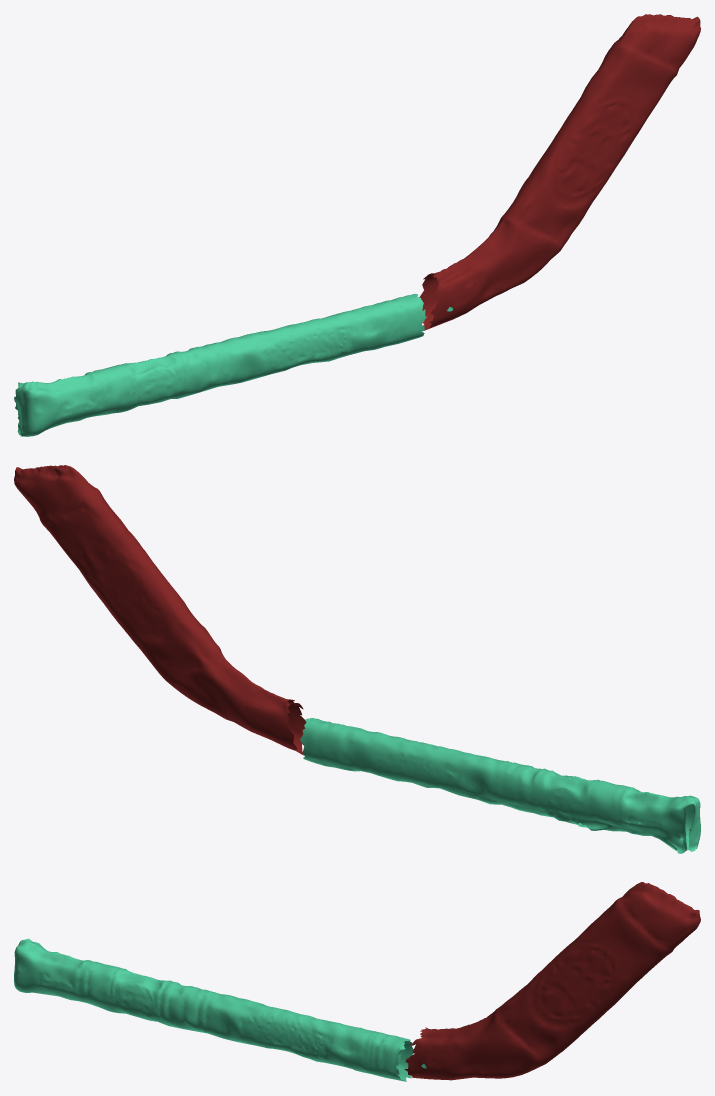
The model's file is object_deformed_6.obj.
3 renders of one model, top to bottom at view 1: azimuth 30°, elevation 25°; view 2: azimuth 150°, elevation 25°; view 3: azimuth 330°, elevation 25°, orthographic. The views are drawn at different scales.
Bounding box in the file's own units: 0.712 × 0.2516 × 0.0564.
